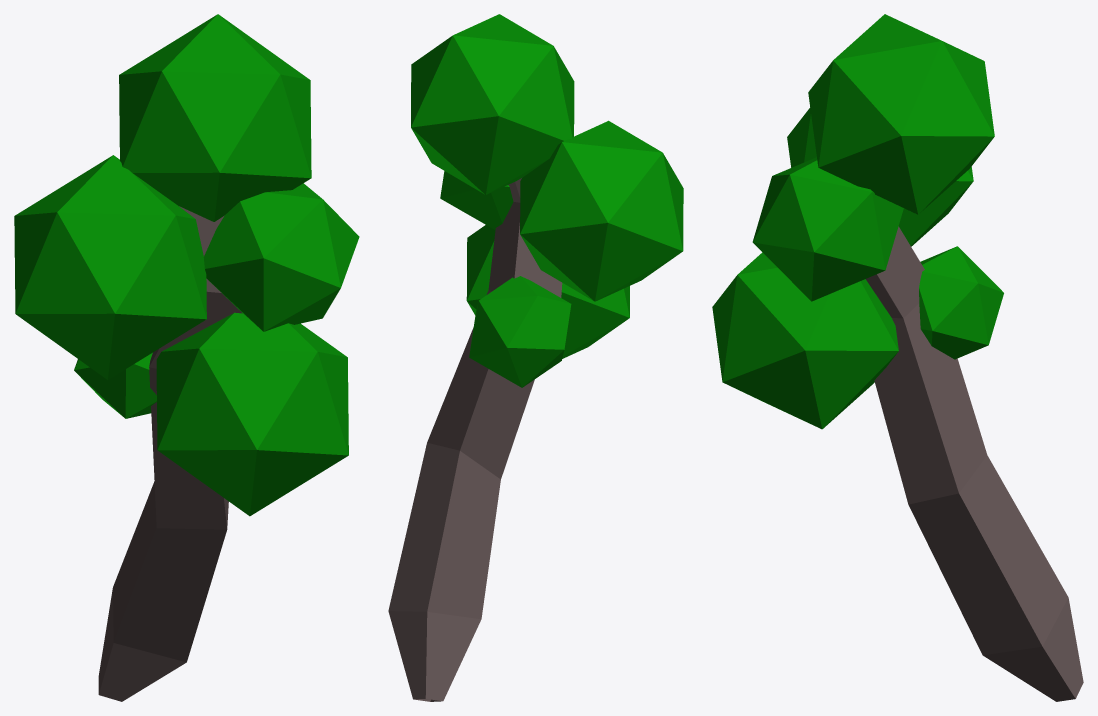
The model's file is Kust_V1.fbx.
3 views of the same model, side by side, from view 1: azimuth 30°, elevation 25°; view 2: azimuth 150°, elevation 25°; view 3: azimuth 270°, elevation 25° (orthographic). The views are drawn at different scales.
Parts seen in each view (by area): view 1: Kust_V1; view 2: Kust_V1; view 3: Kust_V1.
Boxes of the visible parts, left/top/right/bottom form: Kust_V1: left=14, top=14, right=359, bottom=701; Kust_V1: left=388, top=14, right=683, bottom=701; Kust_V1: left=712, top=14, right=1083, bottom=701.
Bounding box in the file's own units: 0.9775 × 2.19 × 1.09.
